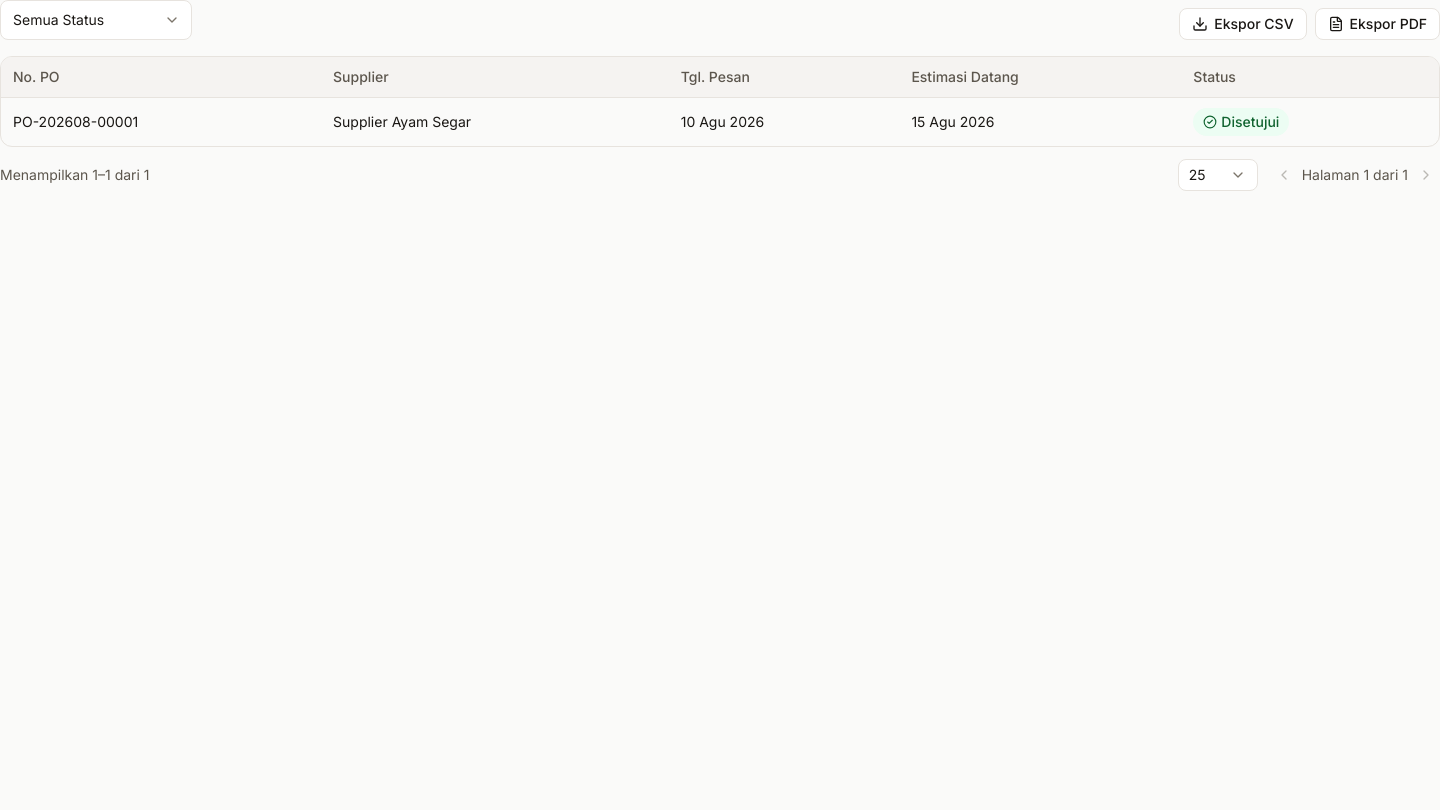
Scenario: PurchaseOrdersPanel — status ladder + D-20 price lock › renders the approval chain timeline when the PO detail carries one, with currentStep null meaning the chain is complete
Click the text "PO-202608-00001" at {"x": 76, "y": 122}, box [1, 98, 321, 146]
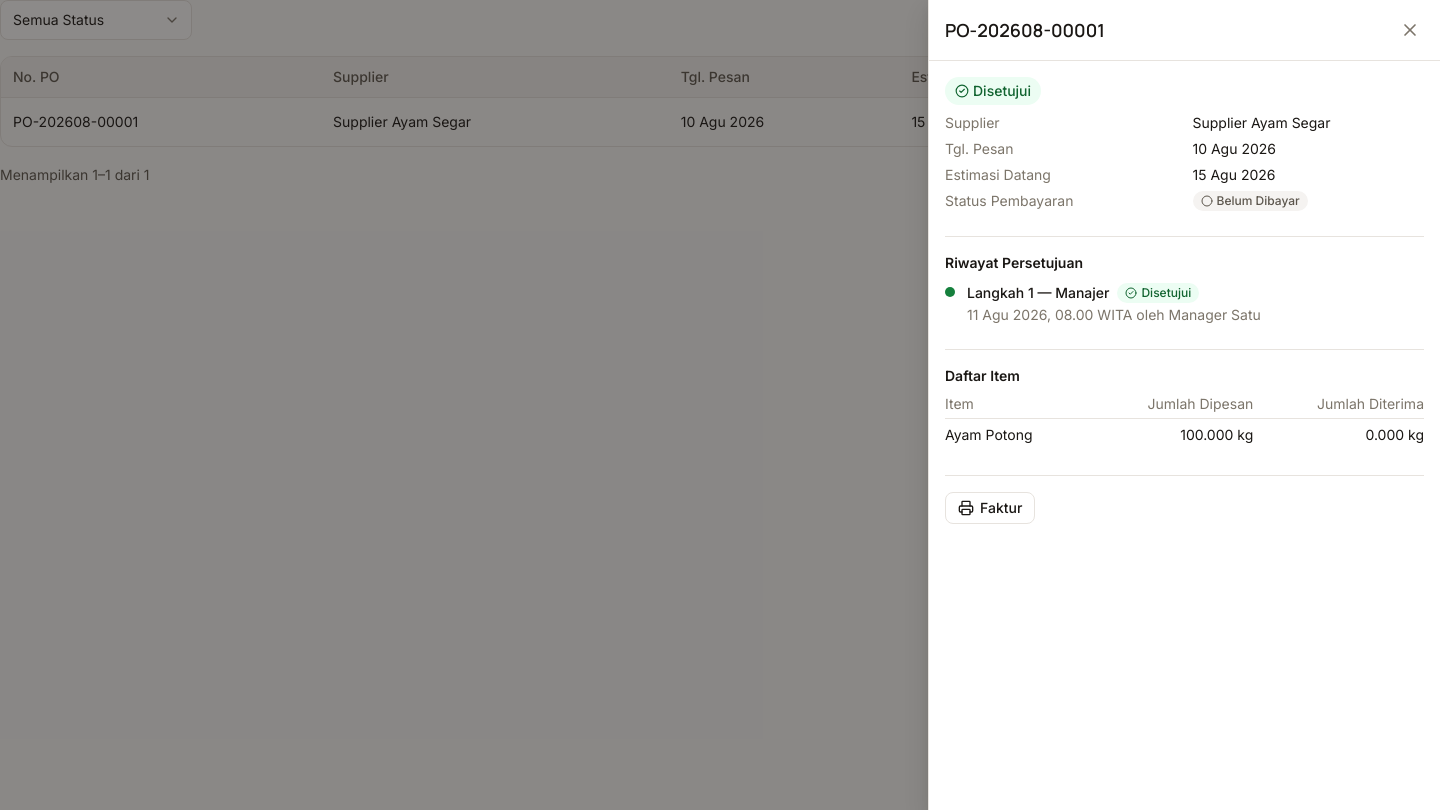
Now the heading "Riwayat Persetujuan" is shown, box [945, 254, 1083, 271]
Now the text "Manager Satu" is shown, box [1132, 306, 1261, 323]
